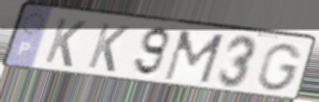3: (214, 32, 259, 93)
9: (130, 26, 172, 79)
G: (255, 42, 305, 93)
K: (85, 21, 132, 74), (42, 16, 89, 69)
M: (161, 29, 227, 86)
